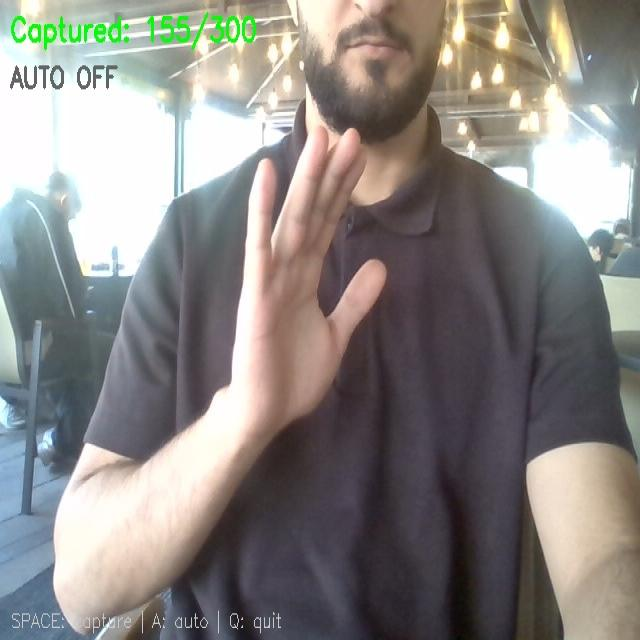Hand: (227, 128, 385, 435)
